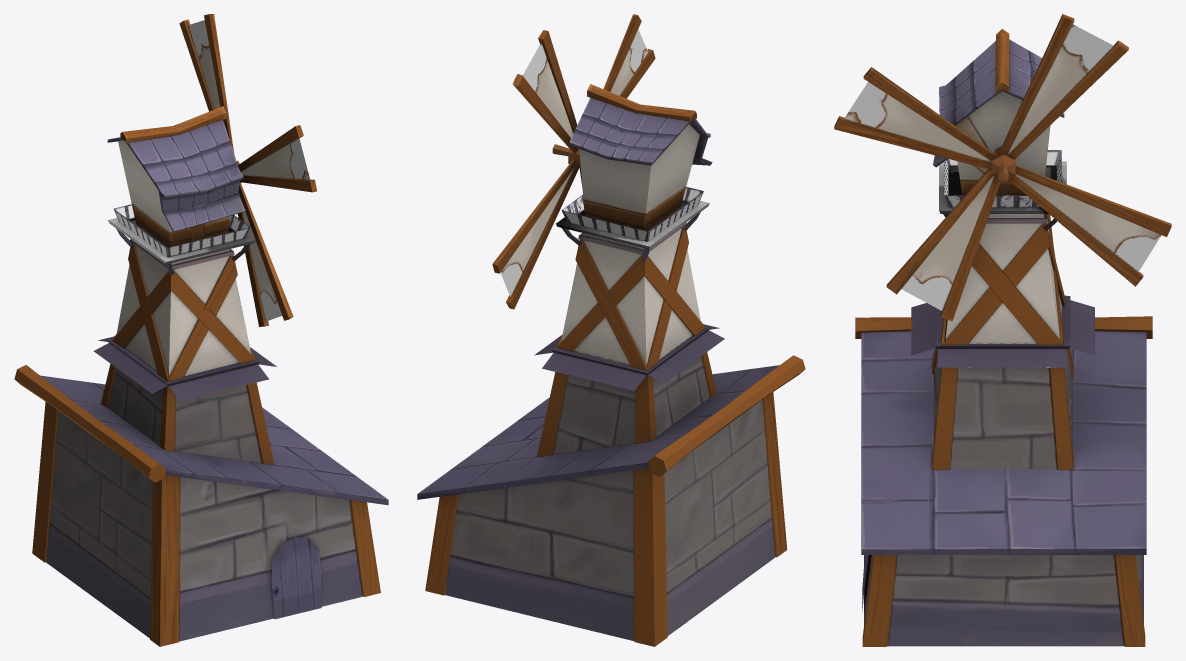
The model's file is Obj_molino.fbx.
3 views of the same model, side by side, from view 1: azimuth 30°, elevation 25°; view 2: azimuth 150°, elevation 25°; view 3: azimuth 270°, elevation 25° (orthographic). The views are drawn at different scales.
Visible parts, largest first — view 1: Obj_molino_cuerpo, Obj_molino_astas; view 2: Obj_molino_cuerpo, Obj_molino_astas; view 3: Obj_molino_cuerpo, Obj_molino_astas.
Boxes of the visible parts, x1=… form: Obj_molino_cuerpo: x1=14, y1=106, x2=388, y2=646; Obj_molino_astas: x1=179, y1=14, x2=316, y2=326; Obj_molino_cuerpo: x1=417, y1=84, x2=805, y2=646; Obj_molino_astas: x1=492, y1=14, x2=655, y2=309; Obj_molino_cuerpo: x1=855, y1=29, x2=1152, y2=646; Obj_molino_astas: x1=834, y1=14, x2=1171, y2=321.
Size of the model in its own units: 4.04 by 8.46 by 4.4.
